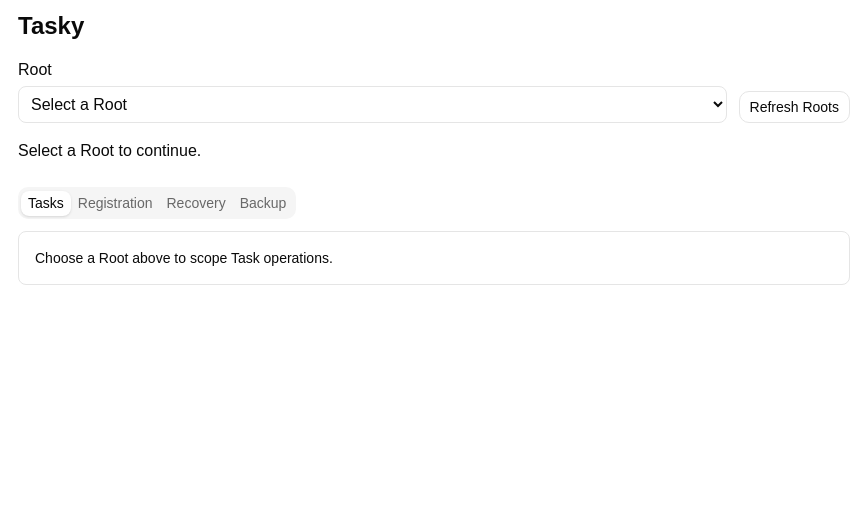
Test: dashboard shell › shows empty Roots and refreshes without keeping a removed selection
Select "same — C:/one (one)" in the dropdown. click: (372, 104)
box: [18,86,726,123]
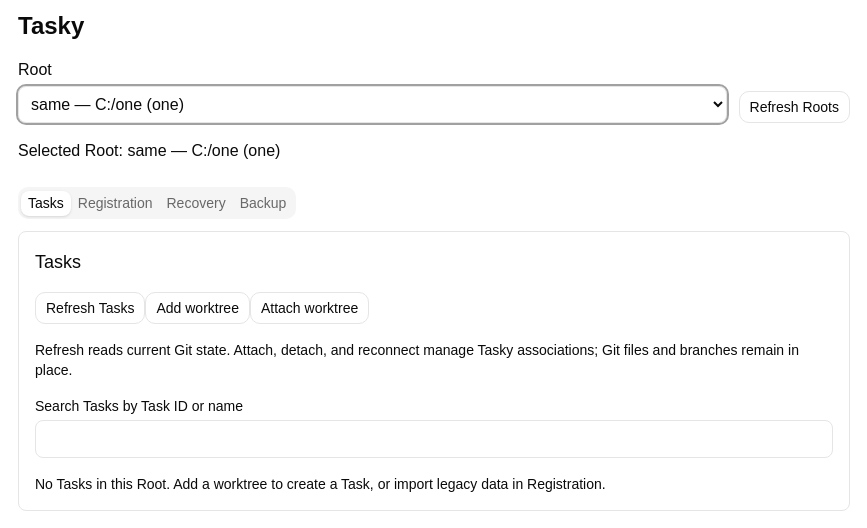
Click the button "Refresh Roots". click: (794, 107)
box: [738,91,850,123]
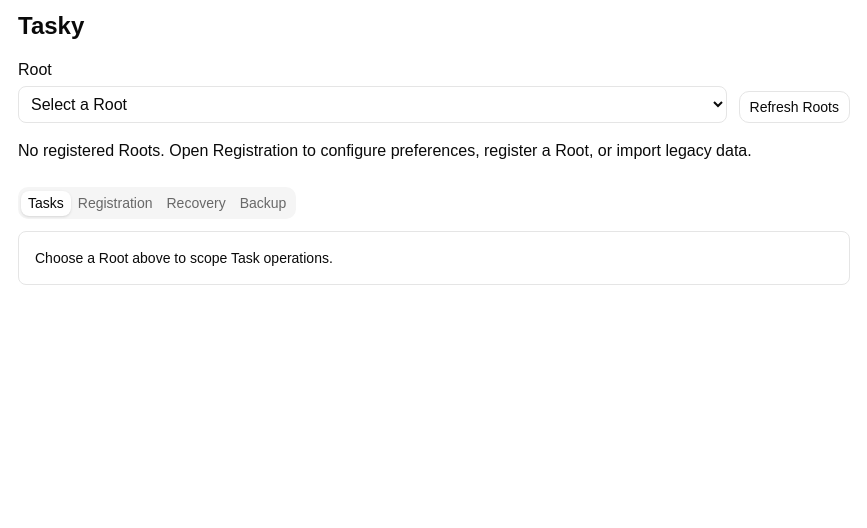
Check: the text "No registered Roots" is shown, box [18,142,752,159]
Check: the text "Selected Root:" is gone
